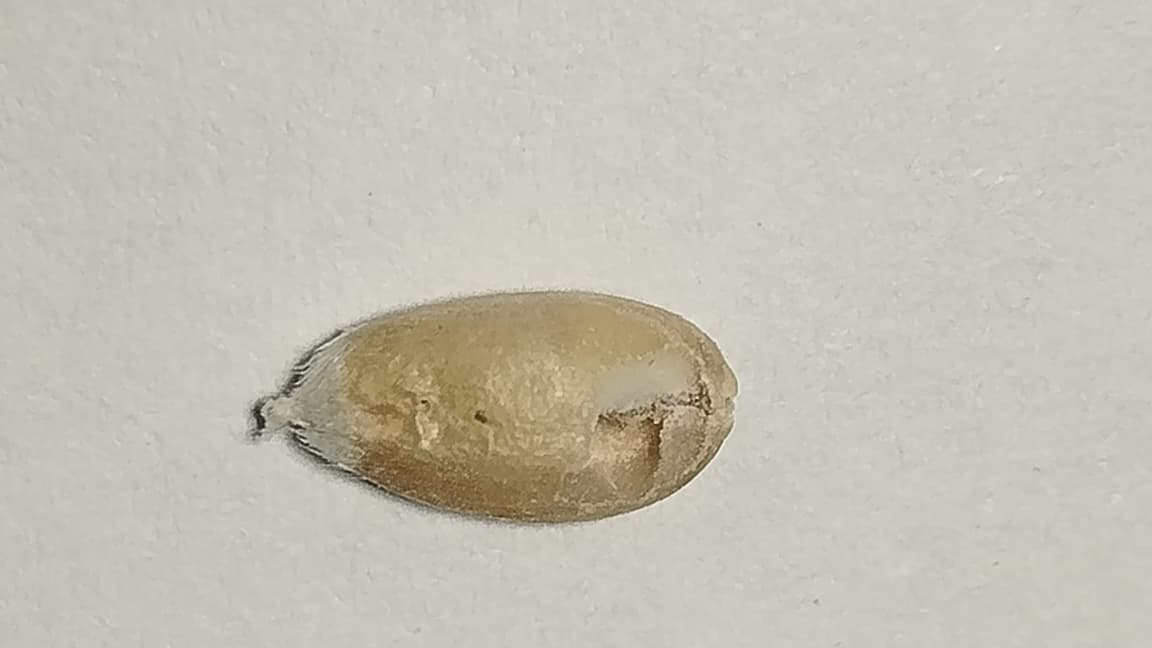damage: (274, 292, 736, 522)
insectdamage: (588, 346, 711, 498)
